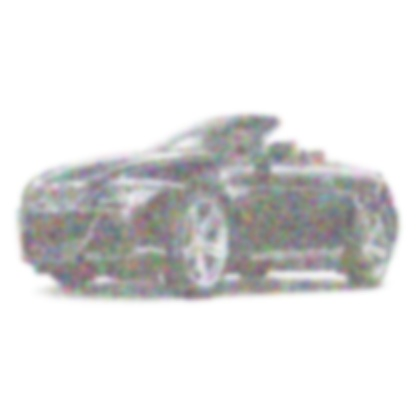Vehicle: (17, 115, 402, 301)
